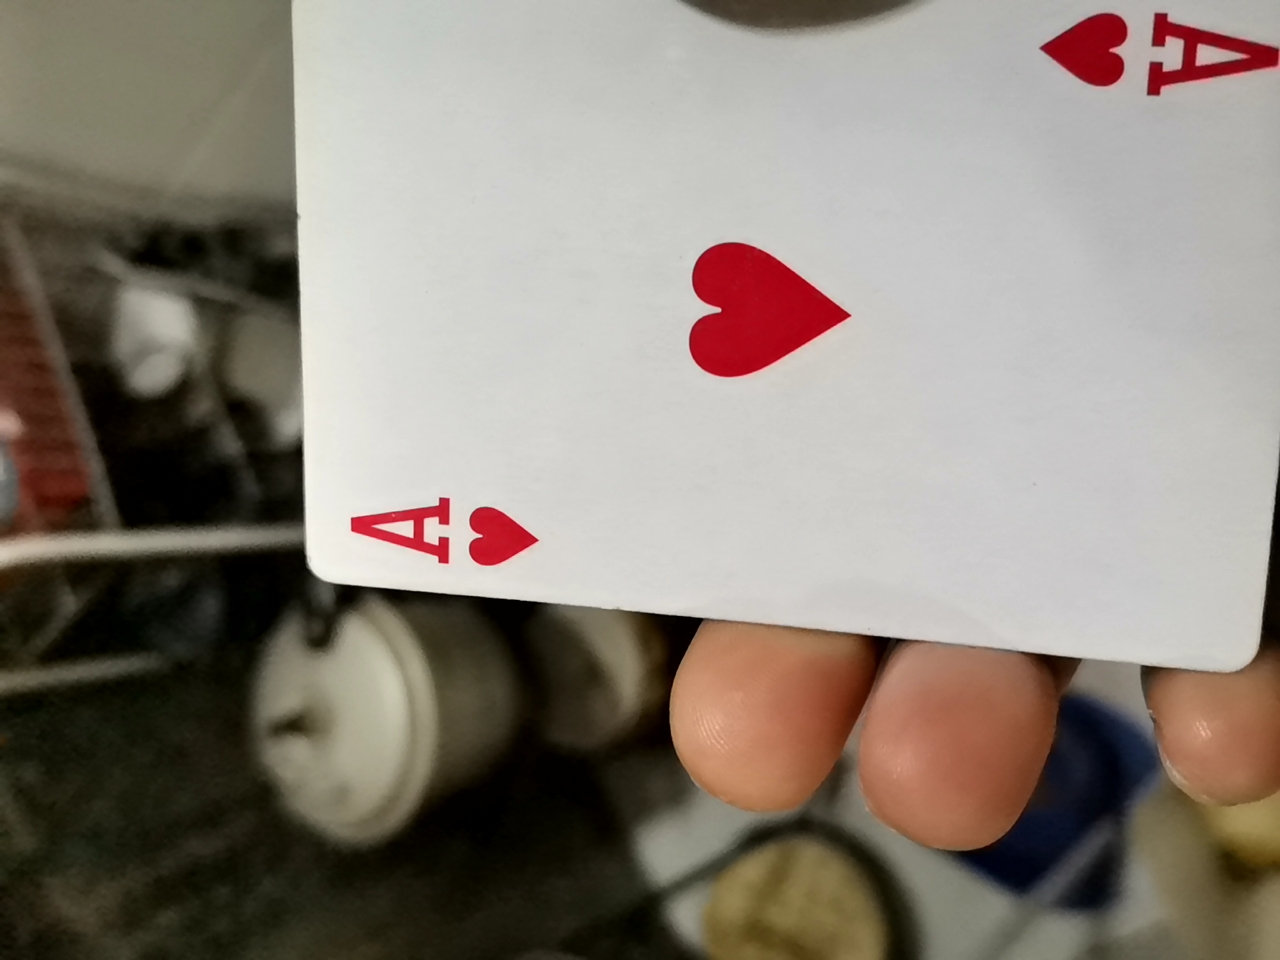hx a: (292, 12, 1271, 707)
